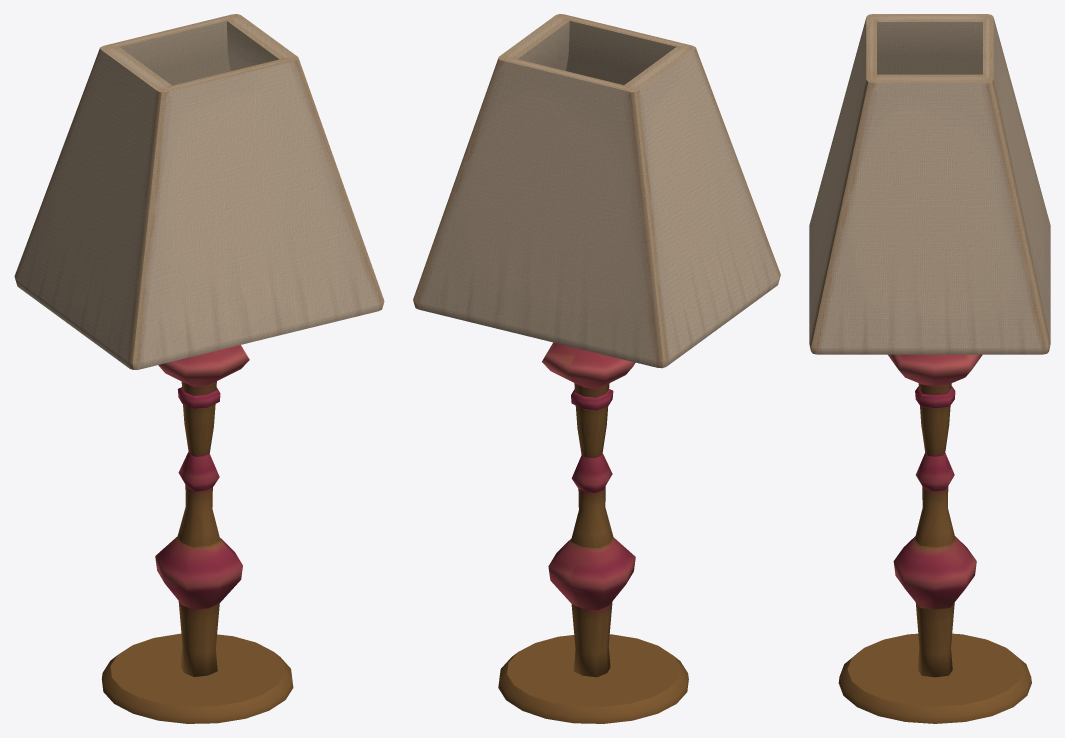
File: Lamp_Square.fbx
The picture shows the model from 3 angles, left to right: view 1: azimuth 30°, elevation 25°; view 2: azimuth 150°, elevation 25°; view 3: azimuth 270°, elevation 25°; orthographic projection.
Parts seen in each view (by area): view 1: SquareLampShade, SquareLampShaft2, SquareLampBase; view 2: SquareLampShade, SquareLampShaft2, SquareLampBase; view 3: SquareLampShade, SquareLampShaft2, SquareLampBase.
Part boxes in pixels (box(x1,y1,x2,y2)): SquareLampShade: box(14, 14, 384, 369); SquareLampShaft2: box(155, 345, 249, 676); SquareLampBase: box(101, 633, 293, 723); SquareLampShade: box(413, 14, 780, 368); SquareLampShaft2: box(542, 342, 635, 677); SquareLampBase: box(498, 634, 688, 723); SquareLampShade: box(809, 14, 1050, 354); SquareLampShaft2: box(888, 354, 982, 677); SquareLampBase: box(838, 633, 1031, 723).
Bounding box in the file's own units: 44.45 × 105 × 36.27.
